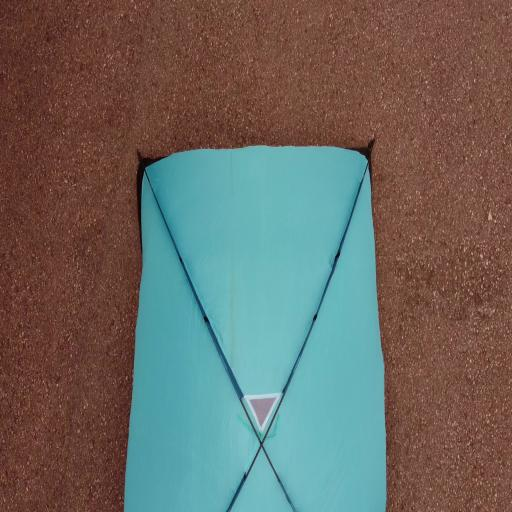tent: (119, 137, 392, 512)
